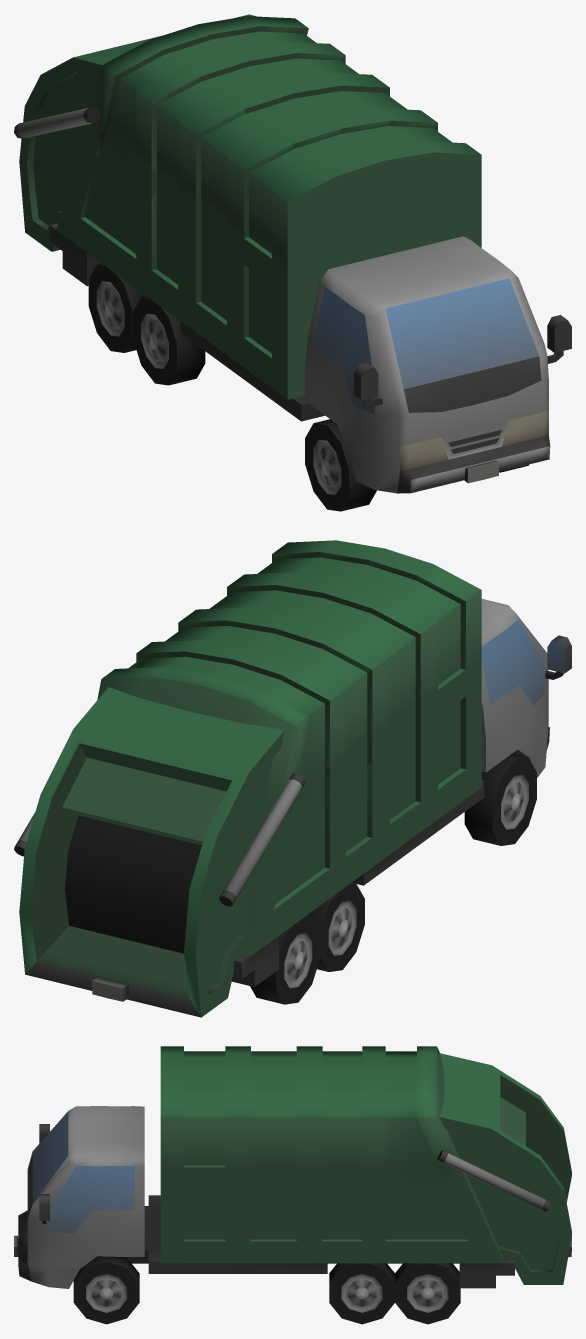
The picture shows the model from 3 angles, top to bottom: view 1: azimuth 30°, elevation 25°; view 2: azimuth 150°, elevation 25°; view 3: azimuth 270°, elevation 25°; orthographic projection. The views are drawn at different scales.
Parts seen in each view (by area): view 1: base.885; view 2: base.885; view 3: base.885.
Part boxes in pixels (x1,y1,x2,y2): base.885: (14,14,571,511); base.885: (14,540,571,1017); base.885: (14,1046,571,1324).
Bounding box in the file's own units: 0.1679 × 0.2196 × 0.5.
